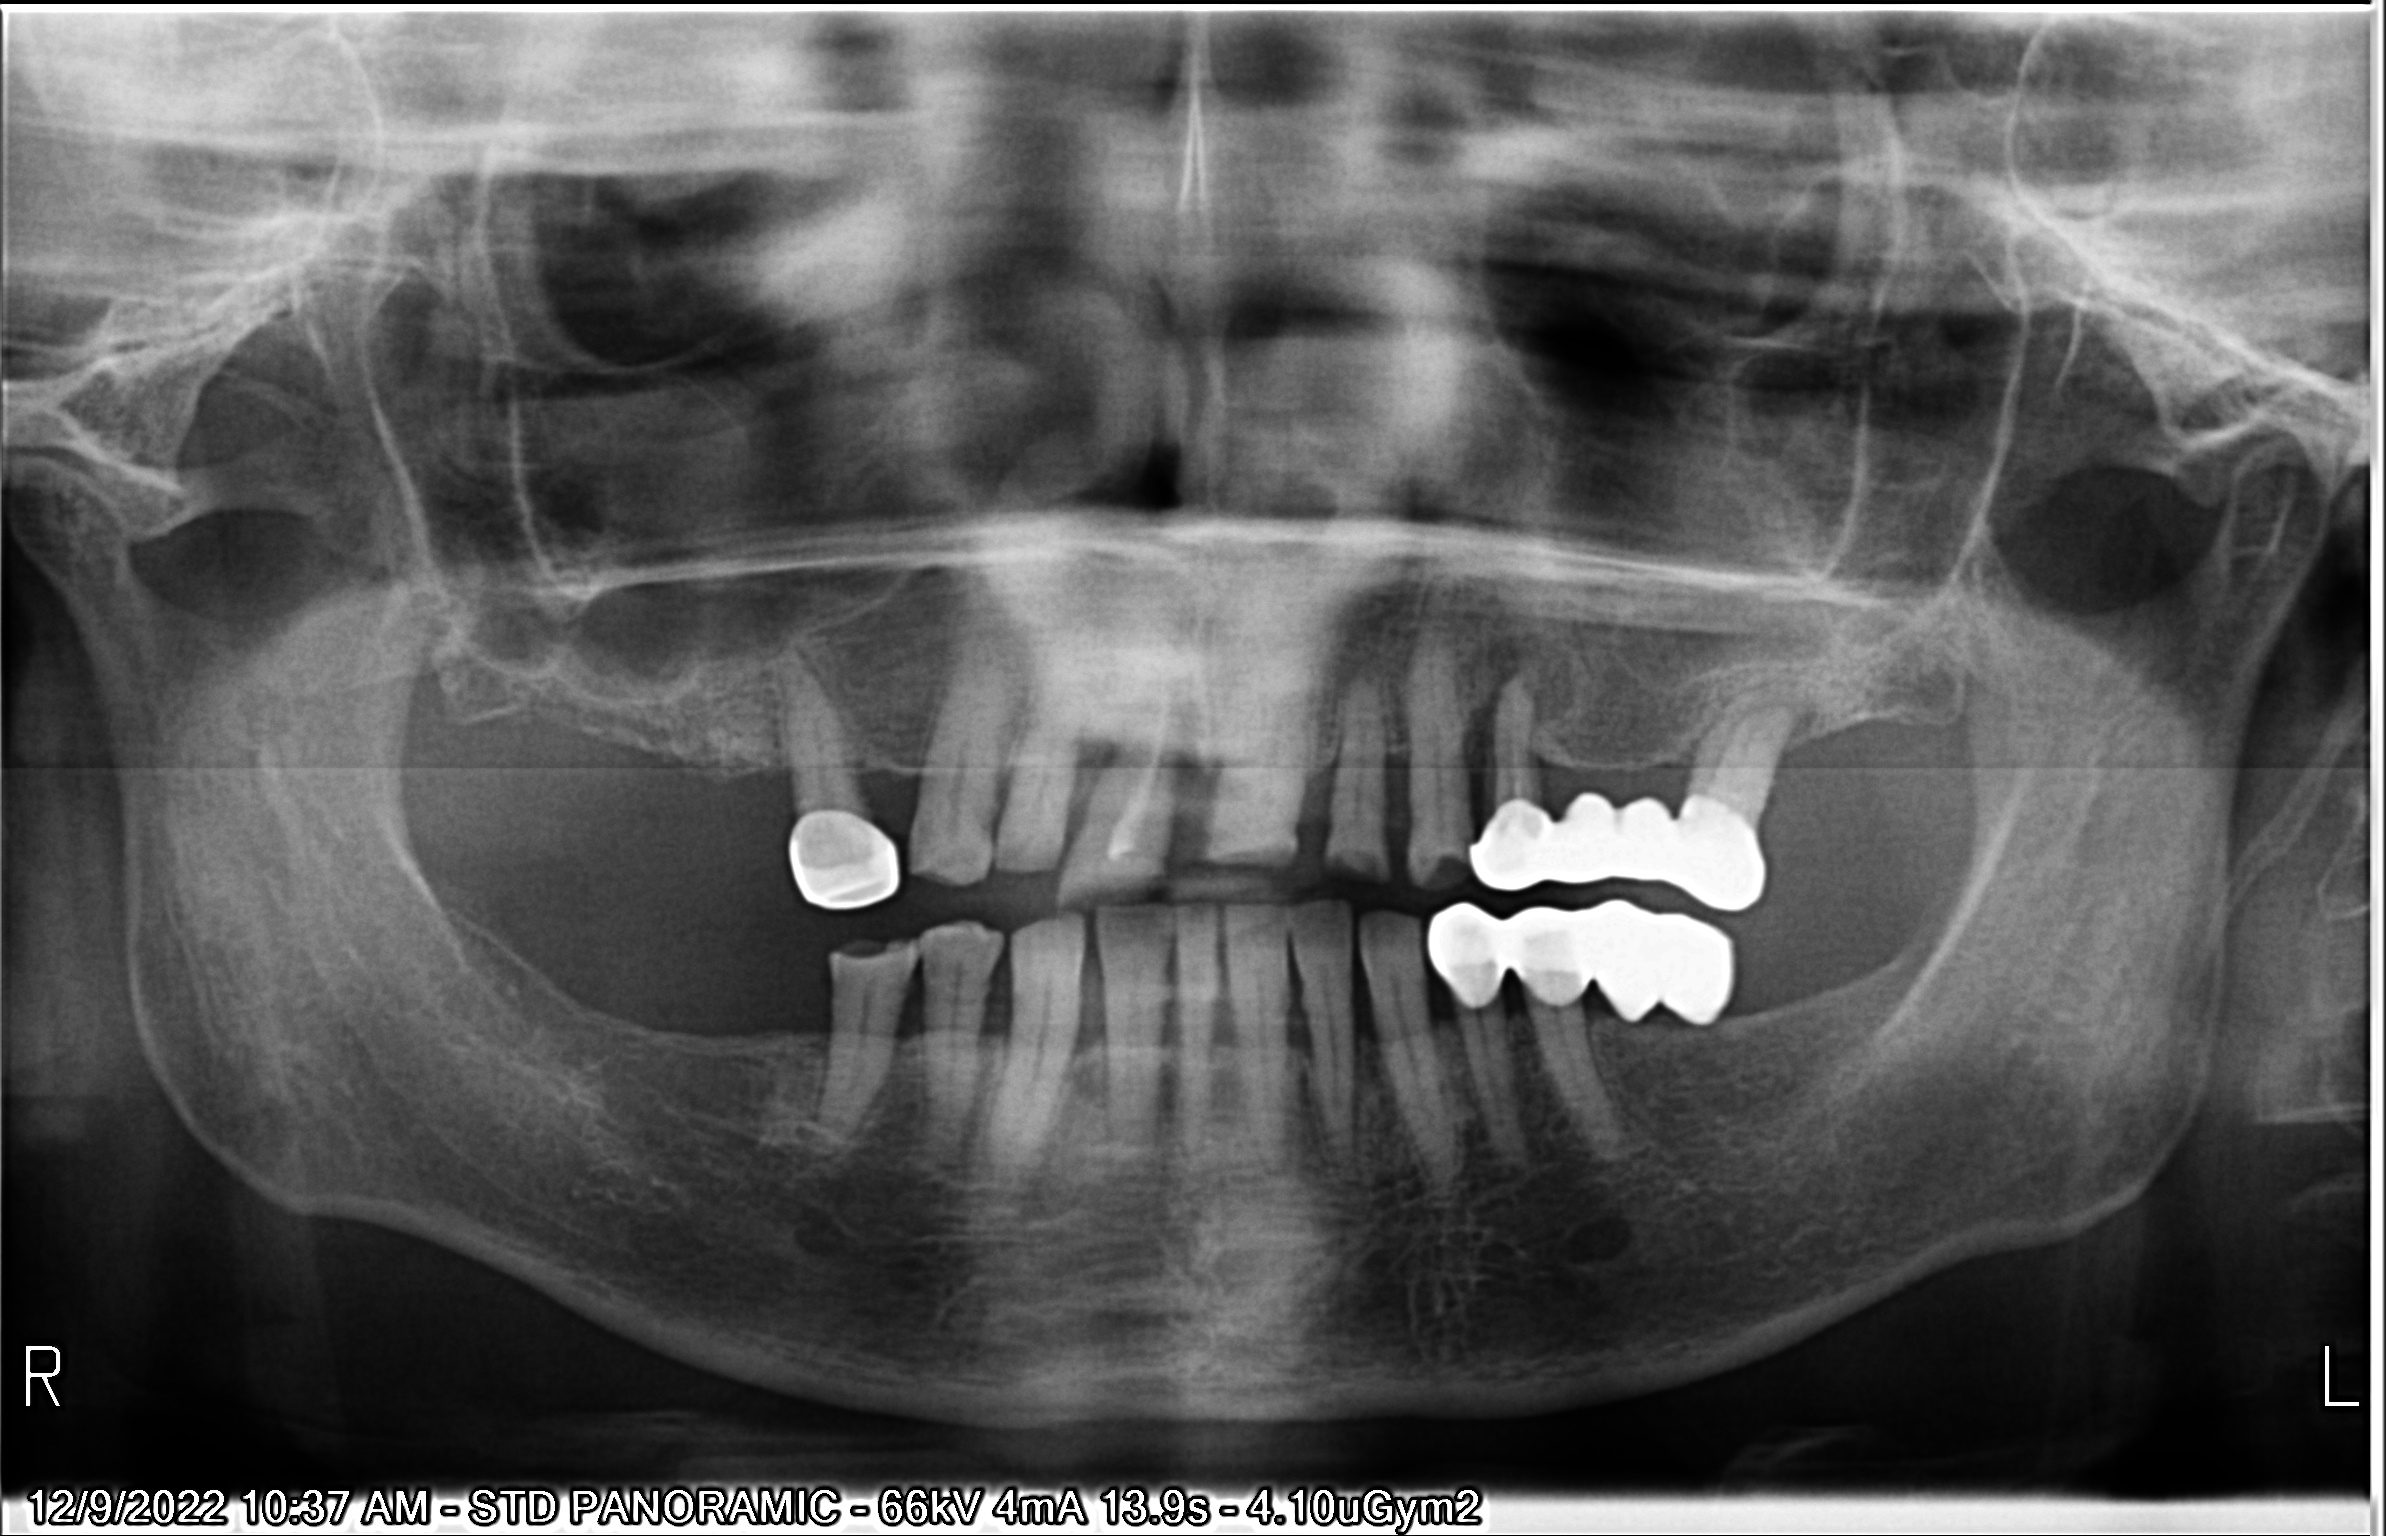BON: (1433, 658, 1520, 797), (1271, 720, 1372, 838), (1636, 694, 1751, 788), (1160, 706, 1240, 823), (1336, 965, 1400, 1110), (1056, 705, 1122, 833), (1052, 969, 1132, 1072), (1190, 948, 1250, 1082), (871, 992, 955, 1079), (1275, 985, 1316, 1098), (1367, 731, 1410, 838), (977, 978, 1030, 1061), (1144, 964, 1179, 1070), (986, 731, 1026, 821)
END: (1075, 663, 1191, 885)
PRR: (1409, 882, 1746, 1061), (1454, 783, 1819, 905), (762, 807, 910, 925)
